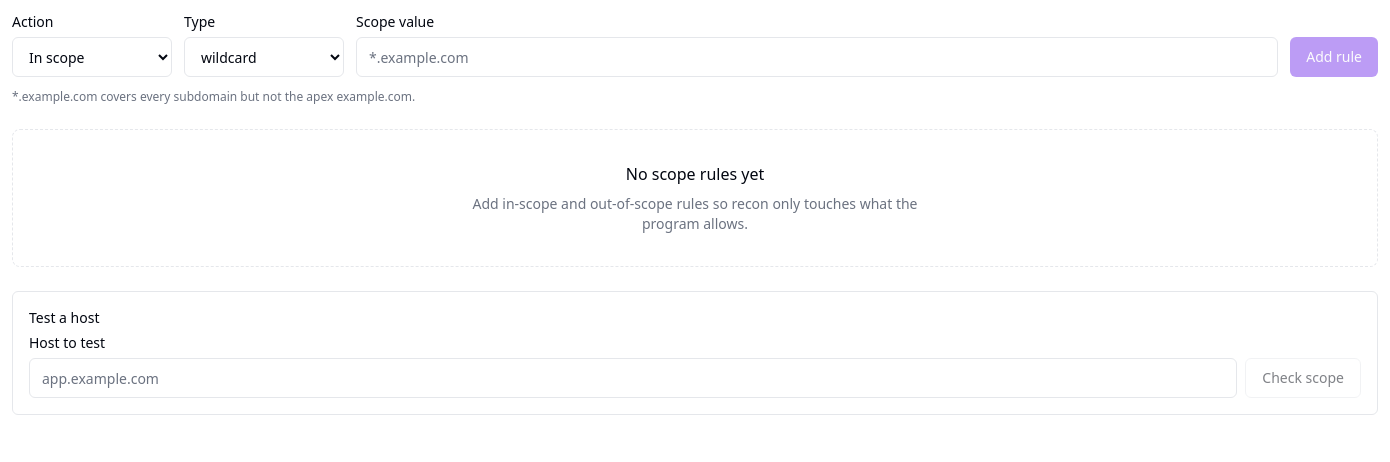
Test case: ScopeEditor › shows the scope-check verdict and reason
Type "admin.acme.com" into the field labelled "Host to test". click: (633, 378)
box: [29,358,1237,398]
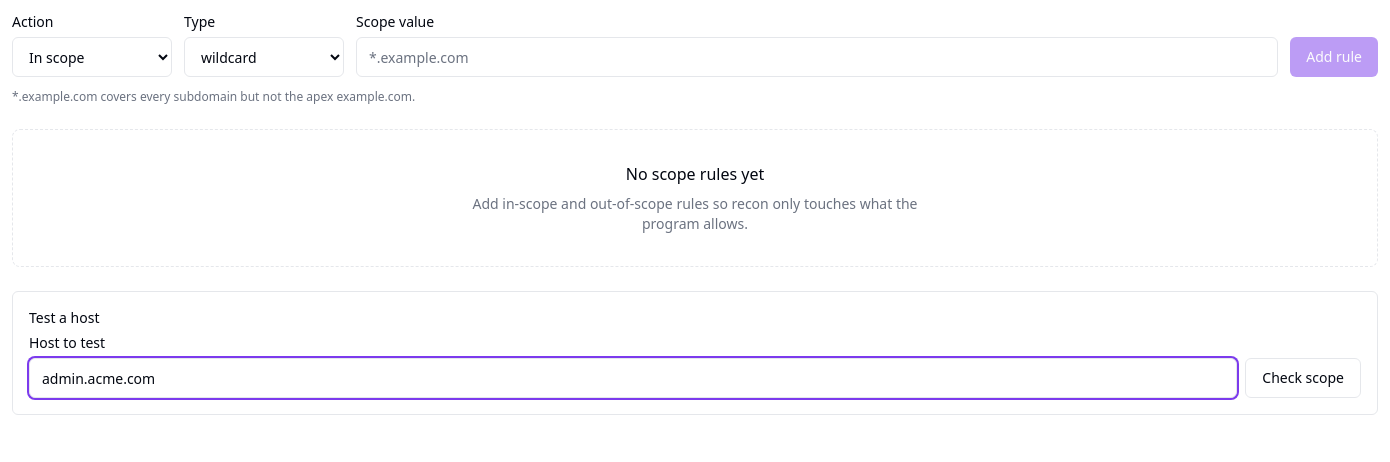
Click the button "Check scope". click: (1303, 378)
box: [1245,358,1361,398]
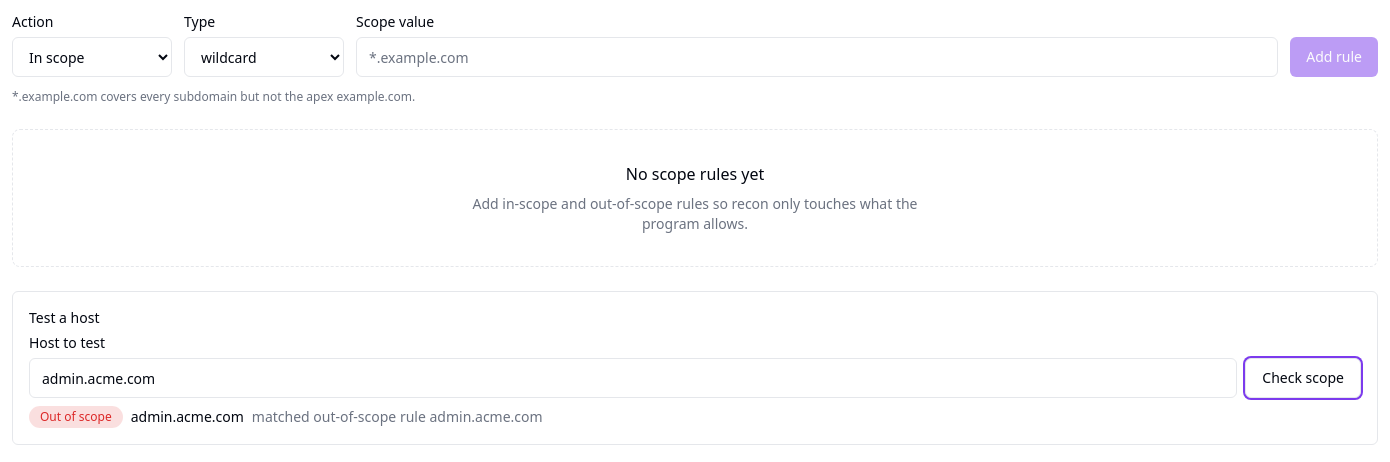
expect the text "Out of scope" is shown: met, box [29,406,123,428]
expect the text "matched out-of-scope rule admin.acme.com" is shown: met, box [252,407,543,427]
